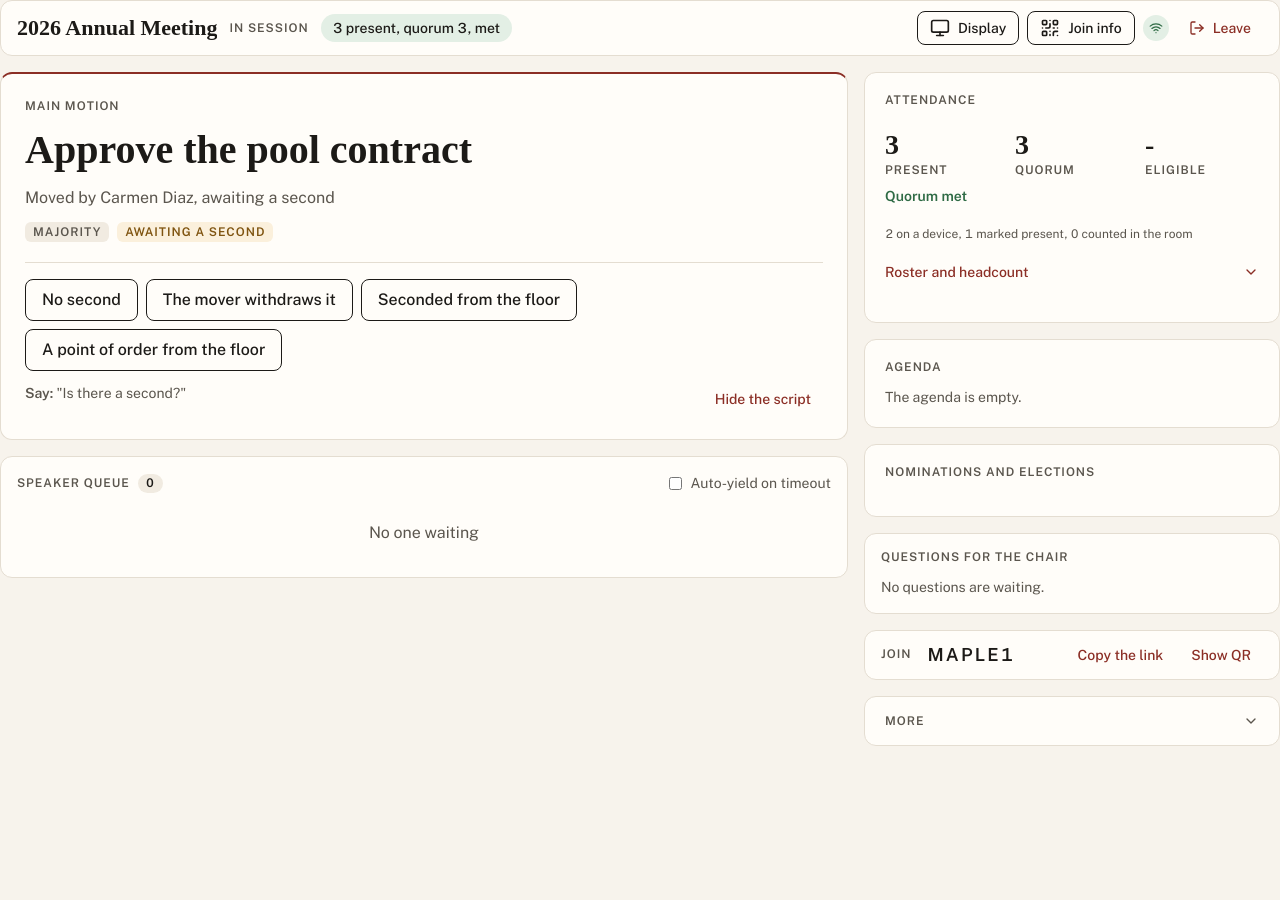
ChairConsole › business from the floor › keeps the second from the floor open when the server refuses it
Click the button "Seconded from the floor" at (469, 300), box [361, 279, 577, 321]
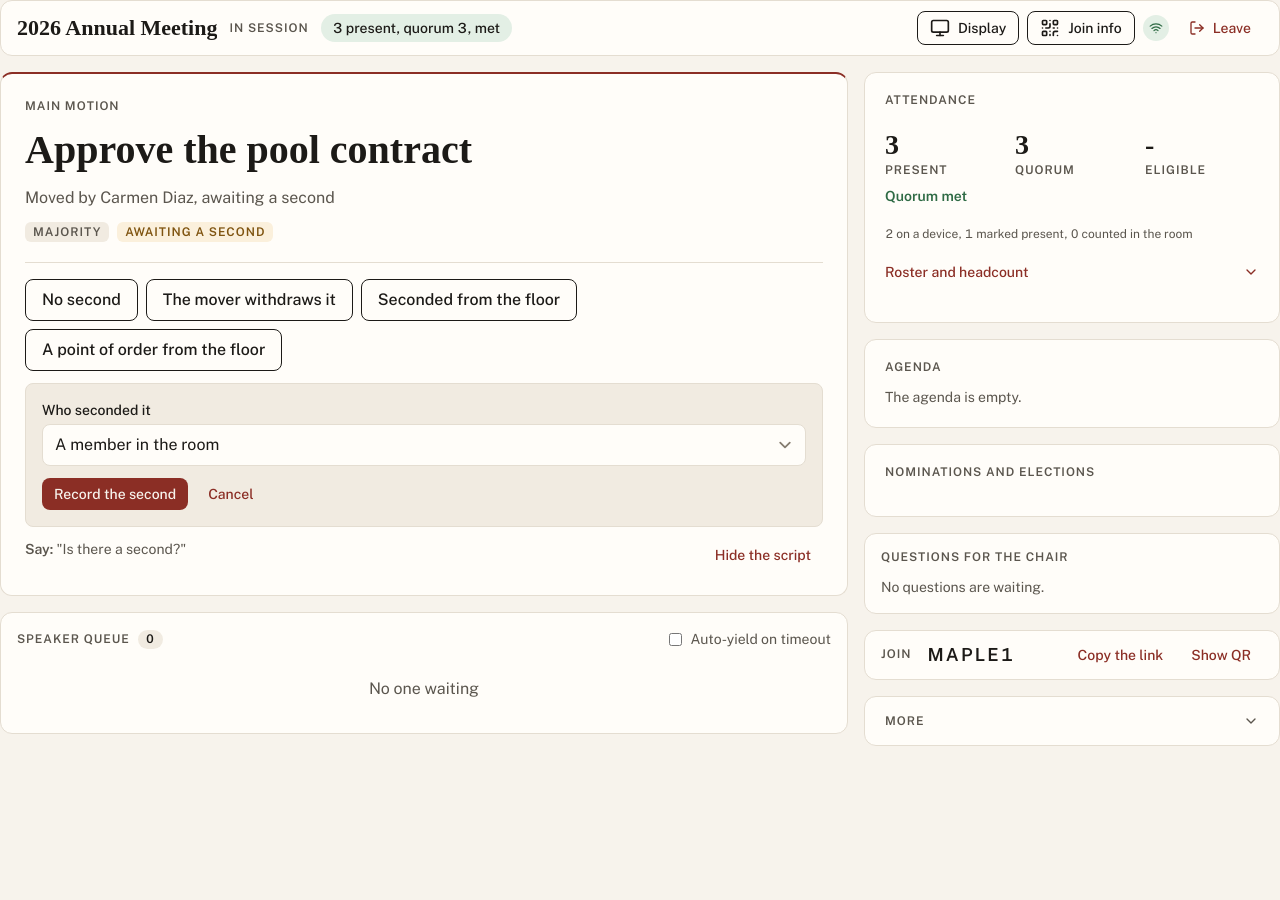
Select "Alice Brennan" in the dropdown labelled "Who seconded it" at (424, 445), box [42, 424, 806, 466]
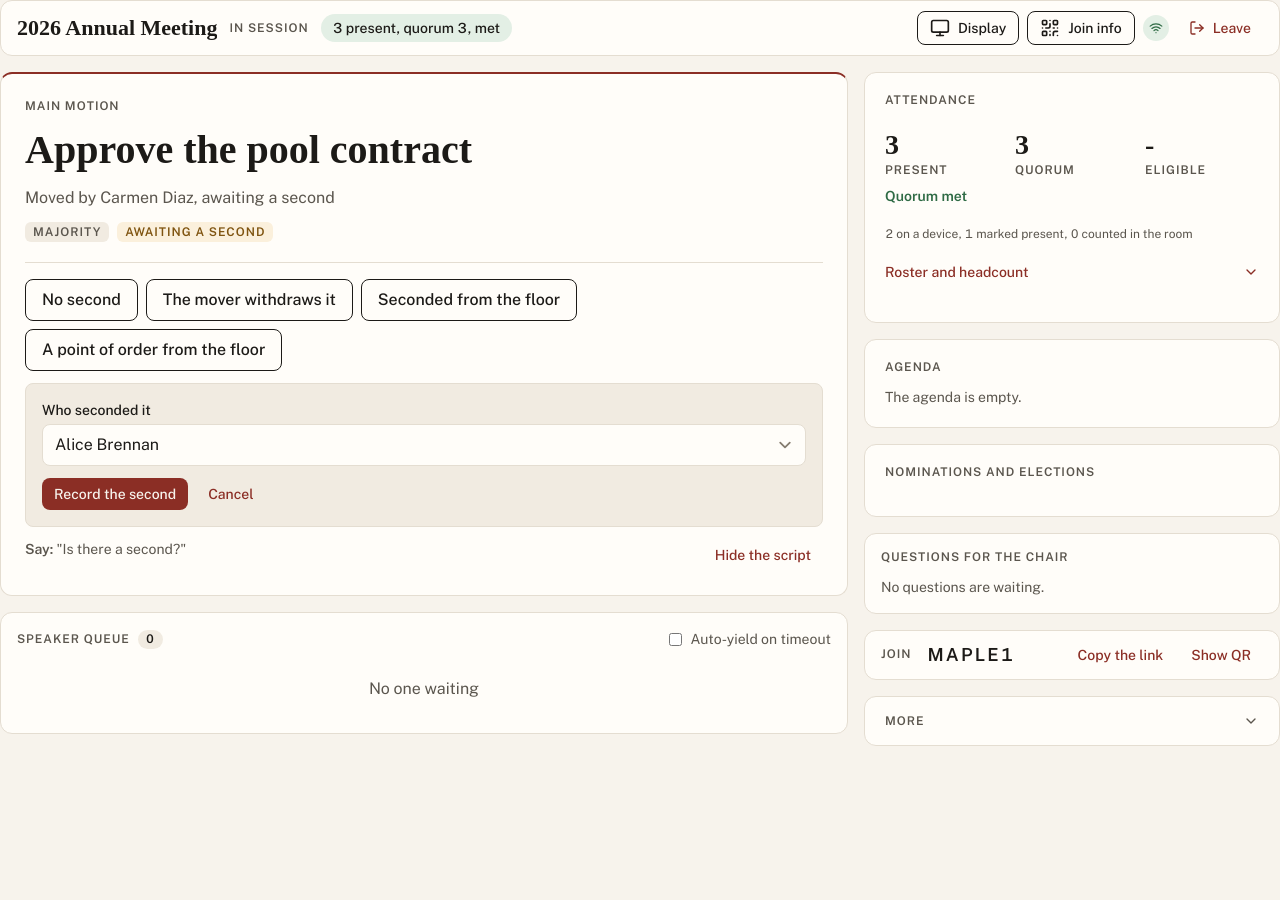
Click the button "Record the second" at (115, 494), box [42, 478, 188, 510]
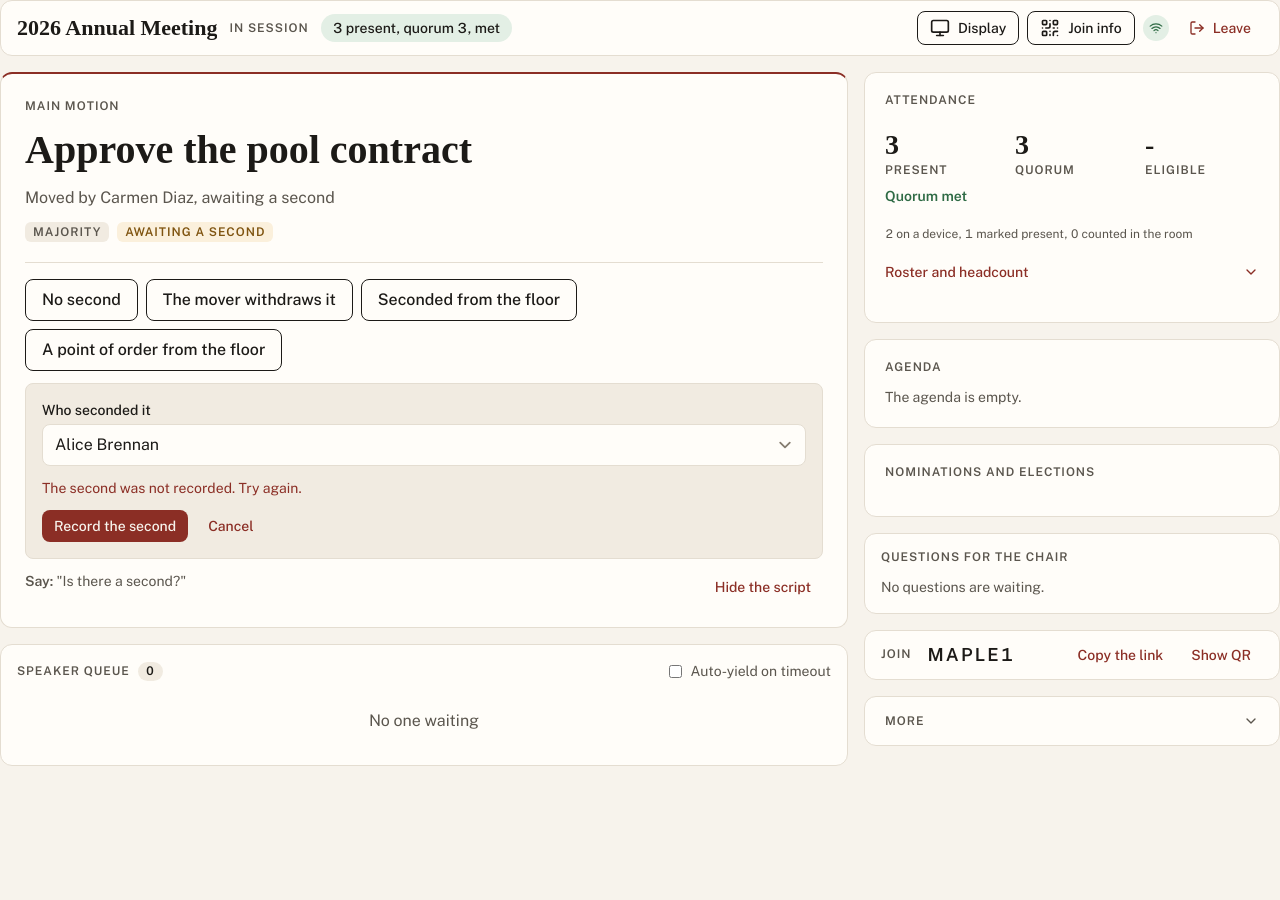
Check: the message reads "The second was not recorded. Try again.", box [42, 480, 302, 496]
